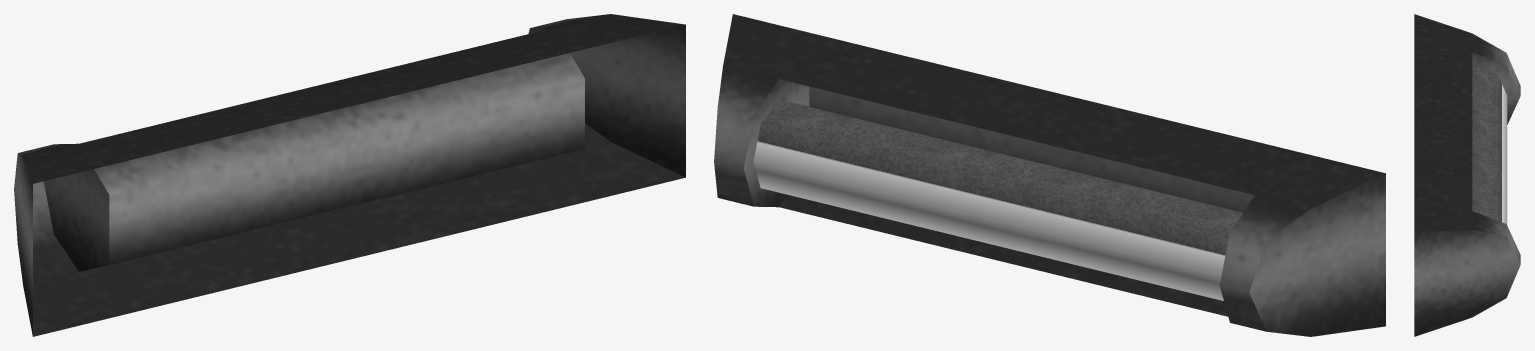
Rendered from Lamp.fbx.
3 renders of one model, left to right at view 1: azimuth 30°, elevation 25°; view 2: azimuth 150°, elevation 25°; view 3: azimuth 270°, elevation 25°, orthographic. The views are drawn at different scales.
Parts seen in each view (by area): view 1: Lamp; view 2: Lamp; view 3: Lamp.
Part boxes in pixels (<box>): Lamp: <box>14,14,685,336</box>; Lamp: <box>714,14,1385,336</box>; Lamp: <box>1414,14,1520,336</box>.
Size of the model in its own units: 53.37 by 11.95 by 11.
